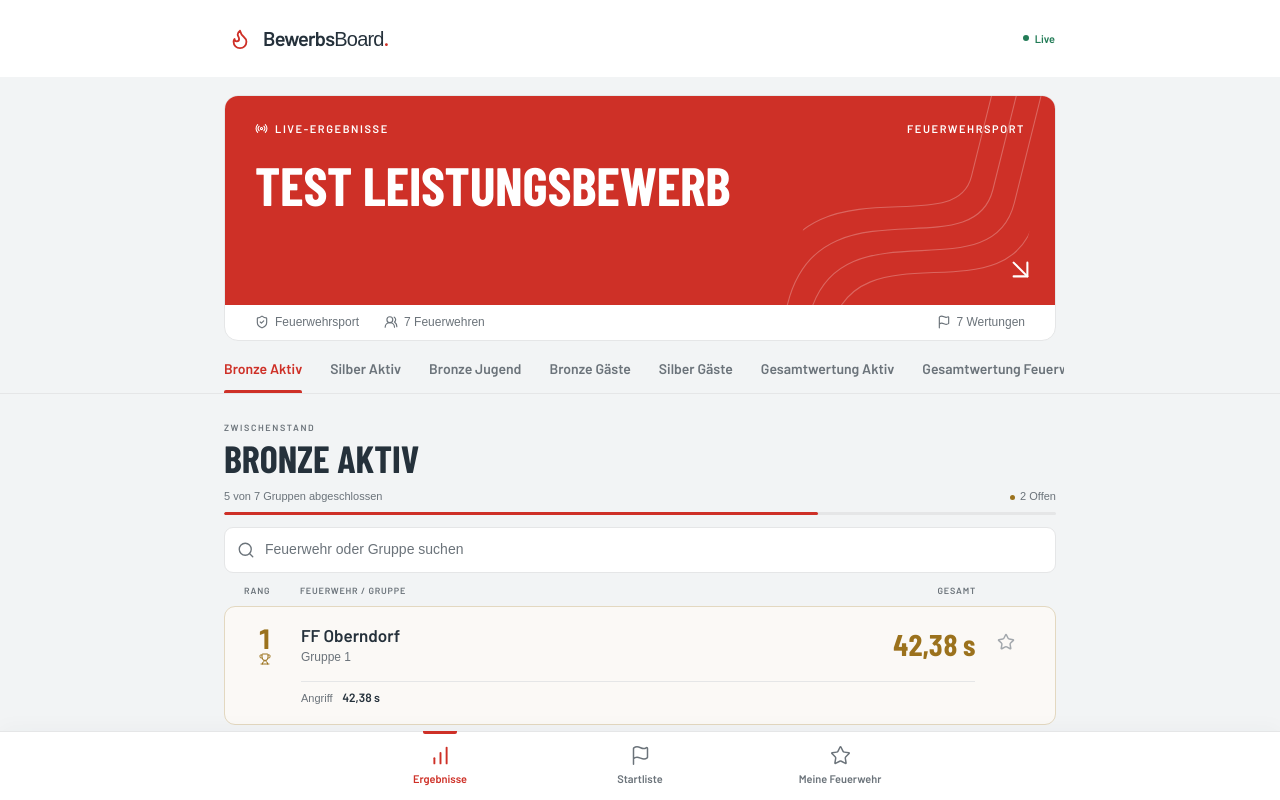
Test: PublicScoreboard Component › falls back to a published category when the selected category becomes private
The image size is (1280, 800).
Click the button with test id "category-tab-gesamt-aktiv". click: (828, 370)
box: [761, 347, 894, 393]
Wait 5000 ms
(page scrolled)
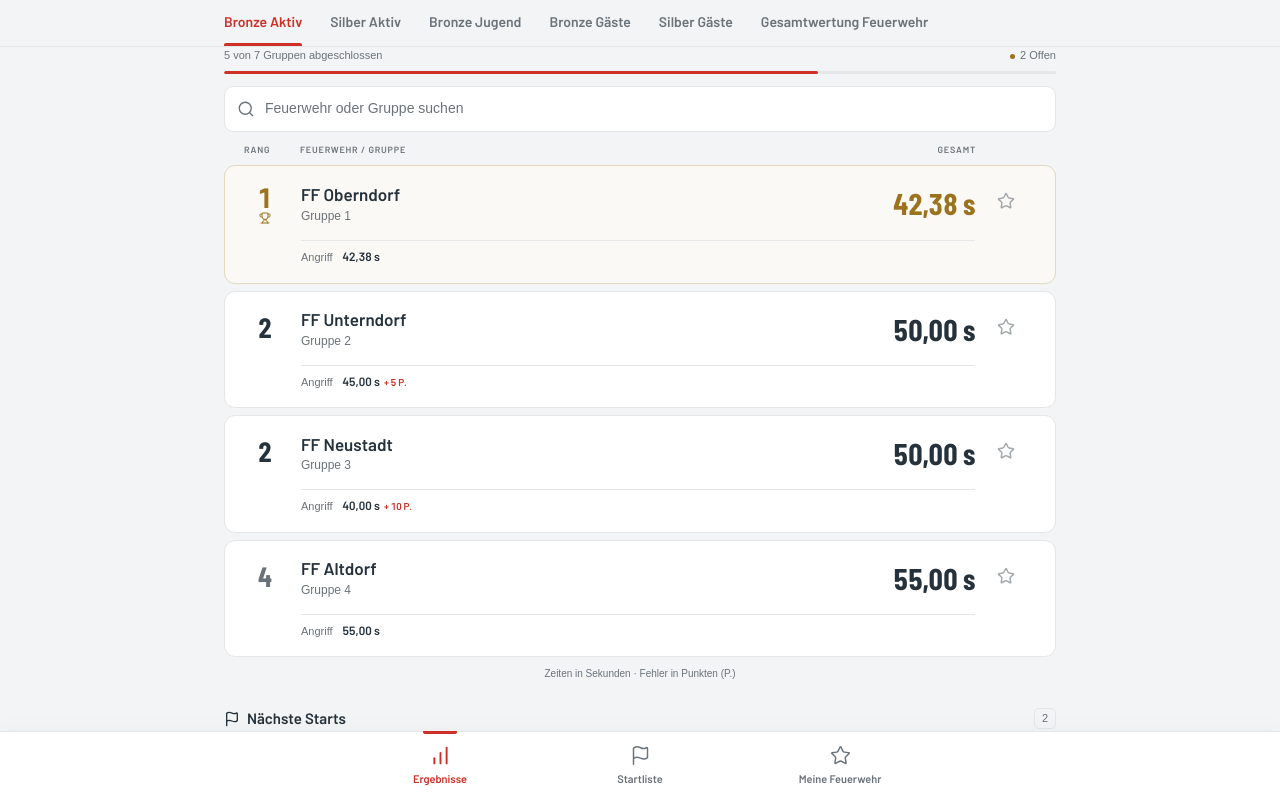
Expected: the table named "Bronze Aktiv Wertungsliste" is shown, [224, 144, 1056, 657]
Expected: the button with test id "category-tab-gesamt-aktiv" is gone
